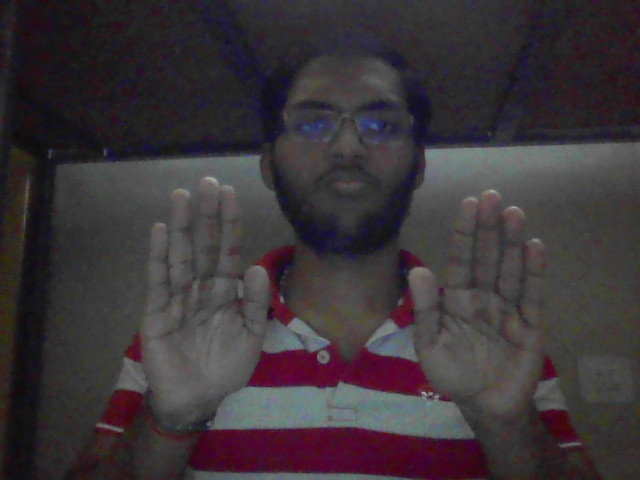God_Bless_You: (133, 165, 593, 454)
